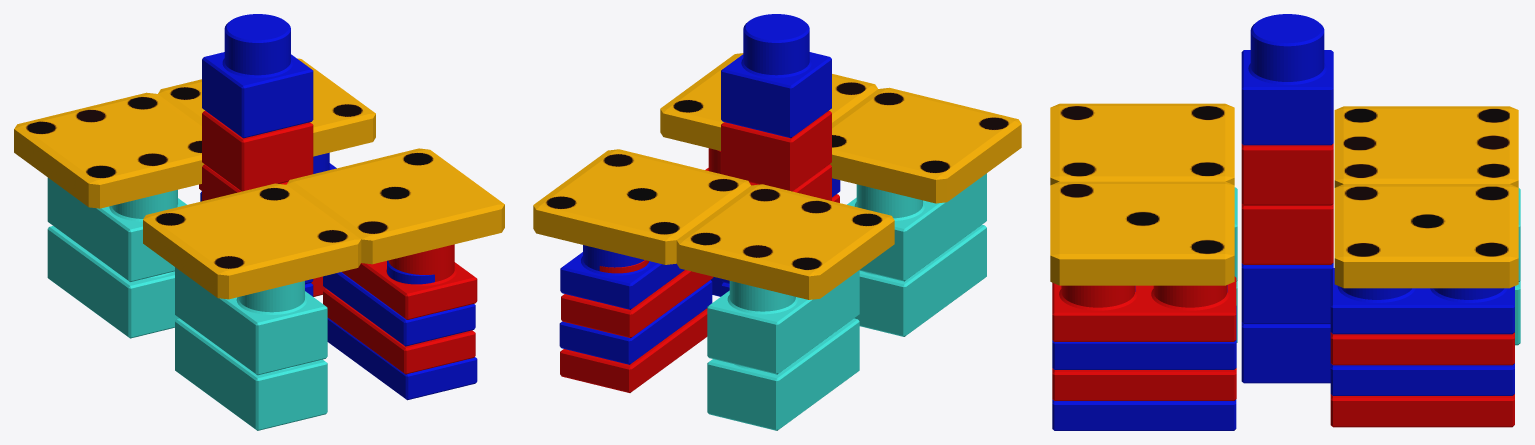
3 views of the same model, side by side, from view 1: azimuth 30°, elevation 25°; view 2: azimuth 150°, elevation 25°; view 3: azimuth 270°, elevation 25° (orthographic). The views are drawn at different scales.
Parts seen in each view (by area): view 1: Dom.202_low_0.002, Dom.303_low_2, Cube.024, Cube.023, Cube.022, Cube.021, Cube.020, Cube.007, Cube.017, Cube.018, Cube.019, Cube.015; view 2: Dom.303_low_2, Dom.202_low_0.002, Cube.024, Cube.020, Cube.021, Cube.023, Cube.022, Cube.007, Cube.013, Cube.014, Cube.012, Cube.016; view 3: Dom.202_low_0.002, Dom.303_low_2, Cube.024, Cube.007, Cube.005, Cube.017, Cube.013, Cube.012, Cube.014, Cube.016, Cube.019, Cube.015 (+1 smaller).
Boxes of the visible parts, bbox=[...] form: Dom.202_low_0.002: bbox=[143, 148, 504, 299]; Dom.303_low_2: bbox=[14, 58, 375, 208]; Cube.024: bbox=[202, 14, 313, 138]; Cube.023: bbox=[175, 267, 327, 375]; Cube.022: bbox=[175, 318, 327, 430]; Cube.021: bbox=[47, 226, 179, 338]; Cube.020: bbox=[47, 177, 186, 282]; Cube.007: bbox=[202, 111, 313, 201]; Cube.017: bbox=[342, 244, 477, 319]; Cube.018: bbox=[323, 260, 475, 346]; Cube.019: bbox=[323, 288, 475, 374]; Cube.015: bbox=[327, 318, 477, 400]; Dom.303_low_2: bbox=[533, 149, 894, 299]; Dom.202_low_0.002: bbox=[660, 53, 1021, 203]; Cube.024: bbox=[721, 14, 831, 138]; Cube.020: bbox=[707, 270, 859, 374]; Cube.021: bbox=[707, 318, 859, 430]; Cube.023: bbox=[847, 173, 986, 281]; Cube.022: bbox=[854, 224, 986, 336]; Cube.007: bbox=[721, 110, 831, 200]; Cube.013: bbox=[560, 245, 684, 309]; Cube.014: bbox=[561, 260, 713, 338]; Cube.012: bbox=[560, 308, 707, 392]; Cube.016: bbox=[559, 280, 712, 364]; Dom.202_low_0.002: bbox=[1050, 103, 1234, 285]; Dom.303_low_2: bbox=[1334, 106, 1518, 288]; Cube.024: bbox=[1241, 14, 1333, 145]; Cube.007: bbox=[1241, 143, 1333, 264]; Cube.005: bbox=[1241, 263, 1333, 383]; Cube.017: bbox=[1052, 276, 1236, 341]; Cube.013: bbox=[1330, 268, 1514, 334]; Cube.012: bbox=[1330, 394, 1514, 427]; Cube.014: bbox=[1330, 332, 1514, 365]; Cube.016: bbox=[1330, 363, 1514, 395]; Cube.019: bbox=[1052, 368, 1236, 400]; Cube.015: bbox=[1052, 399, 1236, 430].
Bounding box in the file's own units: 4.01 × 4.09 × 5.1.
Materials: 9 (4 with a texture image).
